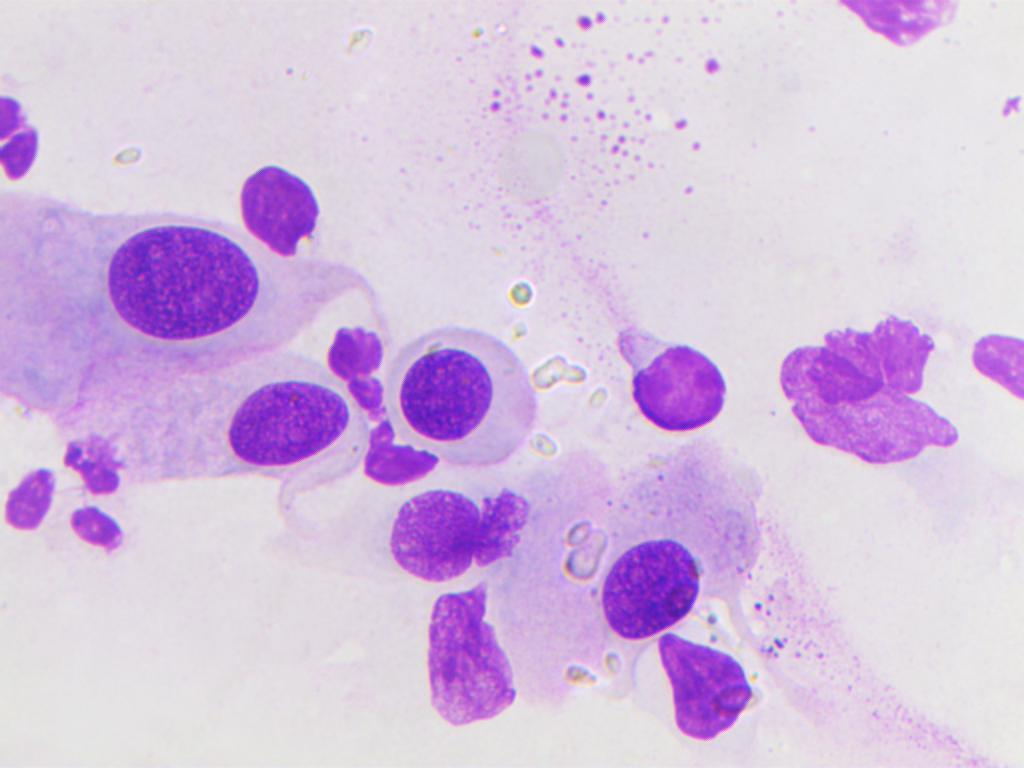artifact: (769, 306, 969, 473), (399, 586, 531, 728), (643, 625, 763, 747), (810, 0, 981, 47), (321, 322, 393, 423), (360, 414, 436, 498), (967, 308, 1024, 403)
epithelial: (70, 222, 258, 350), (136, 375, 349, 476), (383, 488, 561, 586), (396, 332, 542, 444), (591, 536, 704, 637), (230, 157, 330, 254)
lymphocyte: (601, 305, 729, 439)
neutrophil: (6, 435, 138, 558), (0, 83, 53, 184)
